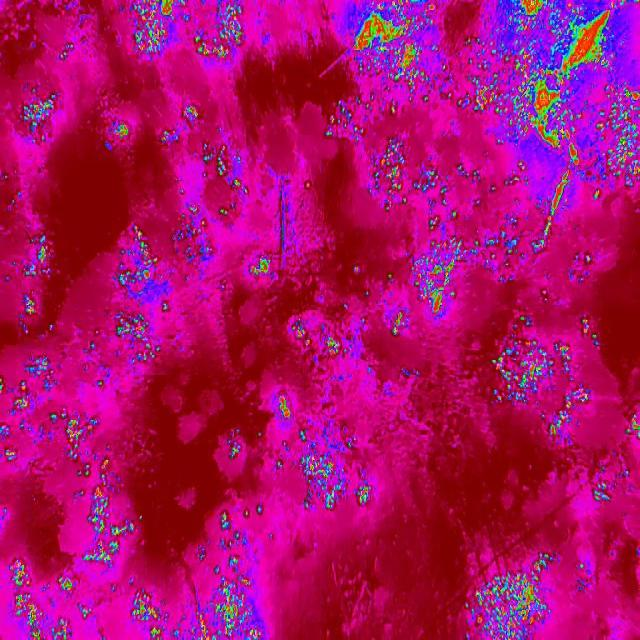fire: (330, 0, 640, 318), (0, 199, 135, 640), (100, 101, 280, 367), (263, 300, 409, 518), (480, 319, 640, 505), (129, 500, 271, 640), (460, 546, 586, 640), (120, 1, 249, 67), (9, 41, 74, 147), (223, 418, 249, 468)
